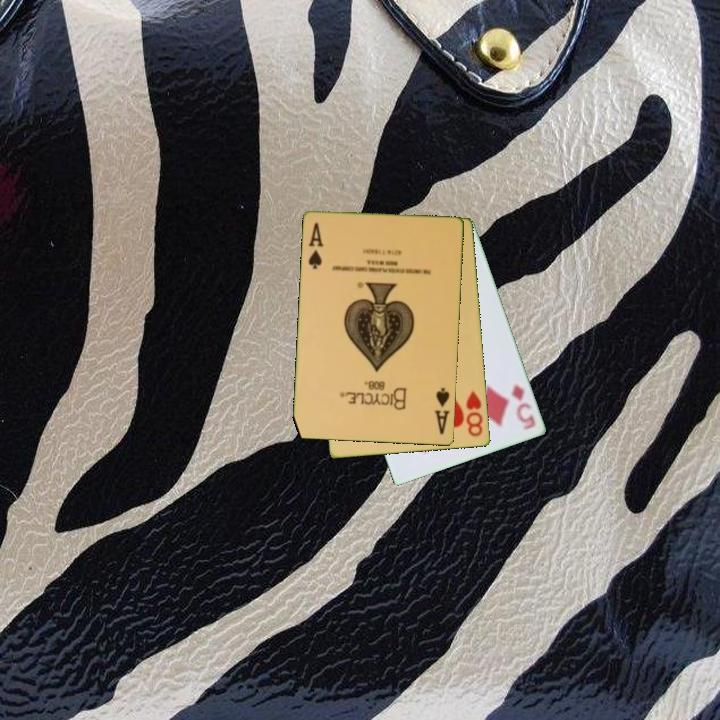5d: (508, 380, 539, 433)
8h: (463, 387, 486, 440)
As: (431, 384, 453, 437), (305, 219, 326, 272)
